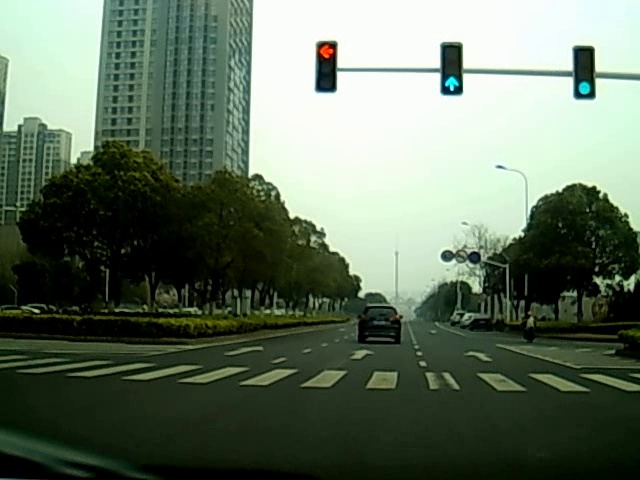Traffic_Light_go: (440, 57, 461, 95), (575, 67, 594, 99)
Traffic_Light_stop: (314, 42, 336, 73)
